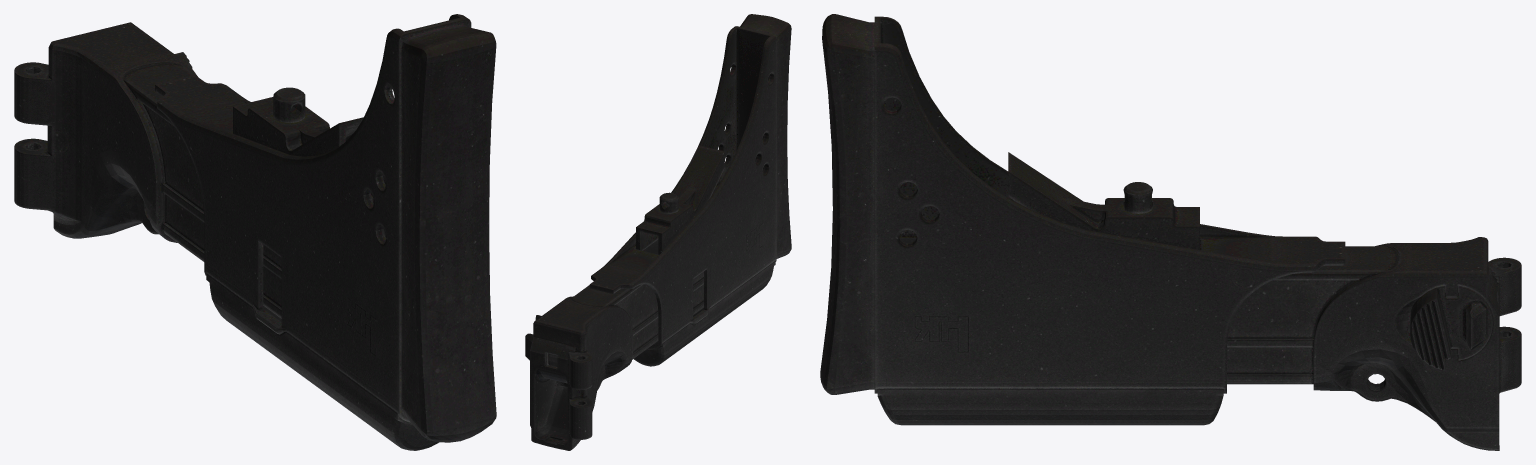
The picture shows the model from 3 angles, left to right: view 1: azimuth 30°, elevation 25°; view 2: azimuth 150°, elevation 25°; view 3: azimuth 270°, elevation 25°; orthographic projection. The views are drawn at different scales.
Parts seen in each view (by area): view 1: TW_622f14e899892a7f9e08f6c5_PZ_Import; view 2: TW_622f14e899892a7f9e08f6c5_PZ_Import; view 3: TW_622f14e899892a7f9e08f6c5_PZ_Import.
Part boxes in pixels (<box>): TW_622f14e899892a7f9e08f6c5_PZ_Import: <box>14,14,496,450</box>; TW_622f14e899892a7f9e08f6c5_PZ_Import: <box>525,14,791,450</box>; TW_622f14e899892a7f9e08f6c5_PZ_Import: <box>820,14,1521,450</box>.
Size of the model in its own units: 0.0289 by 0.148 by 0.0965.
Materials: 1 (1 with a texture image).
